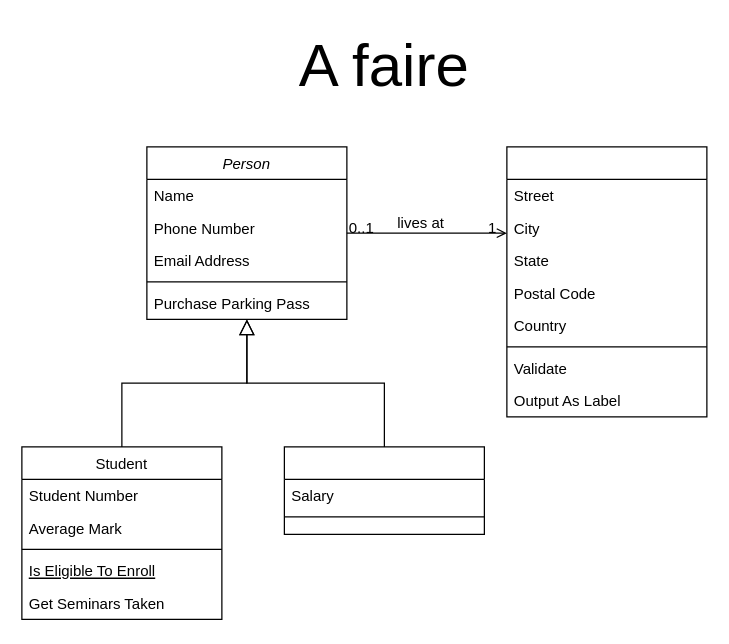
The diagram is 729 pixels wide and 644 high, and some of its shapes have lost their labels. Each missing label, with the box of its shape:
Address: (506, 146, 707, 417)
Professor: (283, 446, 484, 534)
